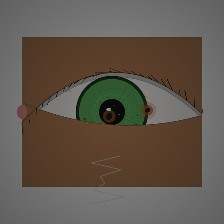foreign_body_visible: (134, 99, 162, 122)
